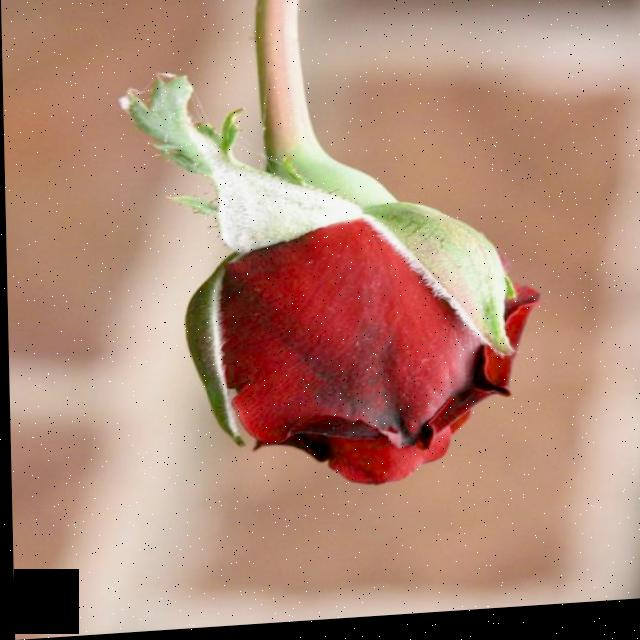rose: (56, 155, 585, 582)
